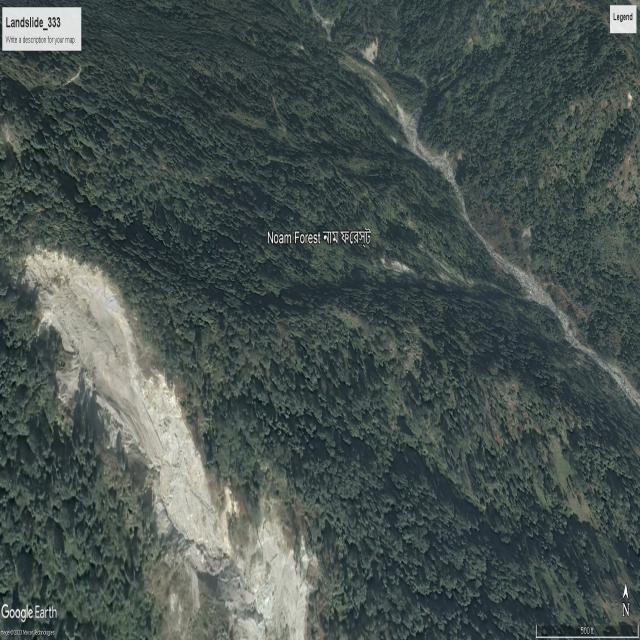Landslide: (27, 240, 240, 590)
